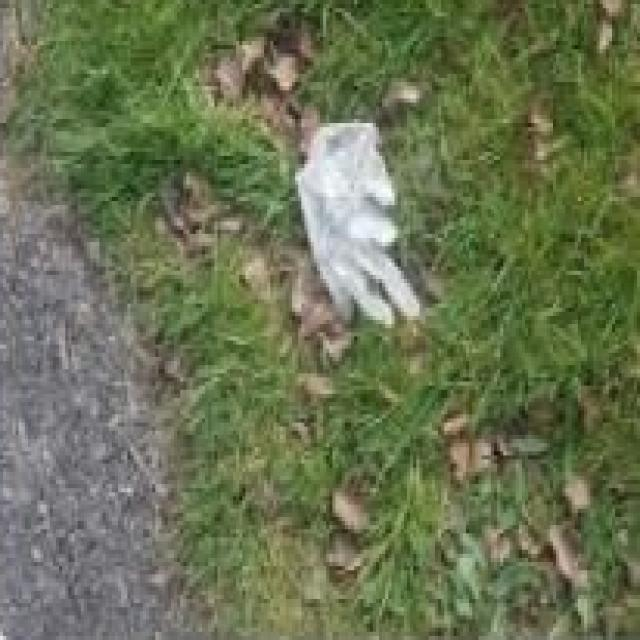b3: (293, 111, 417, 341)
